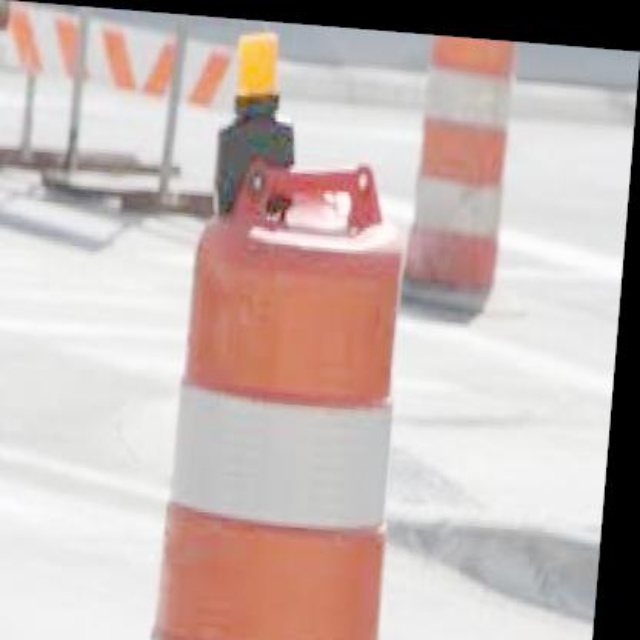obstacle: (153, 140, 429, 640)
